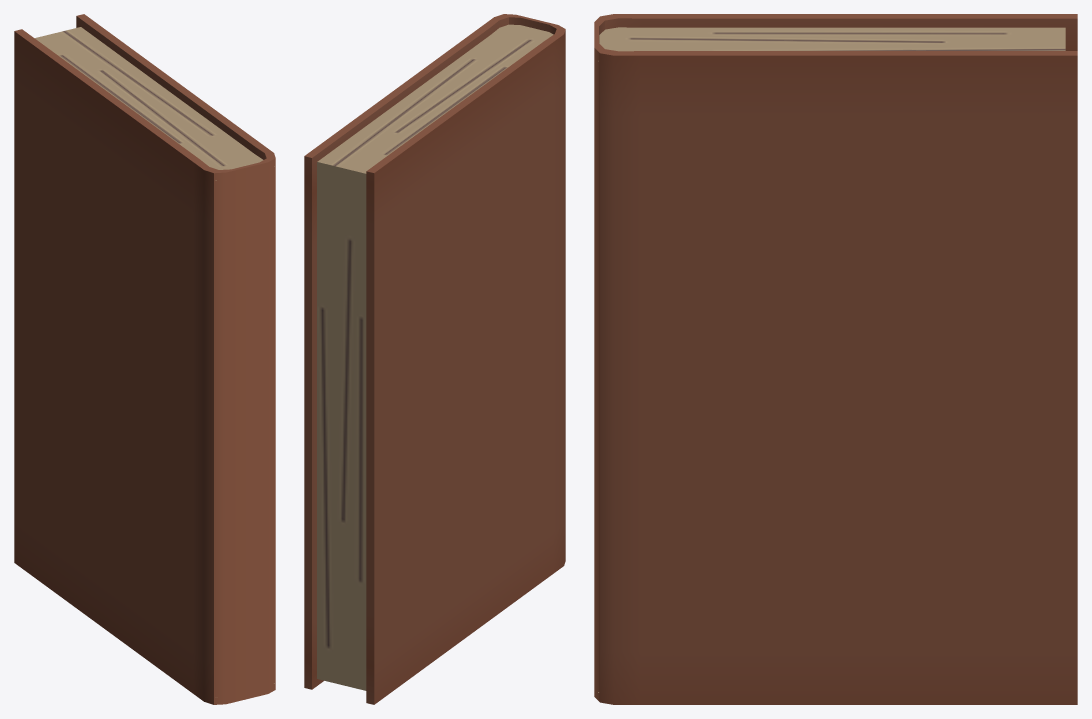
The model's file is Mesh_Room_Book_01_SM.fbx.
The picture shows the model from 3 angles, left to right: view 1: azimuth 30°, elevation 25°; view 2: azimuth 150°, elevation 25°; view 3: azimuth 270°, elevation 25°; orthographic projection. The views are drawn at different scales.
Parts seen in each view (by area): view 1: Mesh_Room_Book_01; view 2: Mesh_Room_Book_01; view 3: Mesh_Room_Book_01.
Boxes of the visible parts, x1,y1,x2,y2 form: Mesh_Room_Book_01: [14, 14, 275, 704]; Mesh_Room_Book_01: [304, 14, 565, 704]; Mesh_Room_Book_01: [594, 14, 1077, 704].
Bounding box in the file's own units: 4.06 × 29.5 × 19.9.
